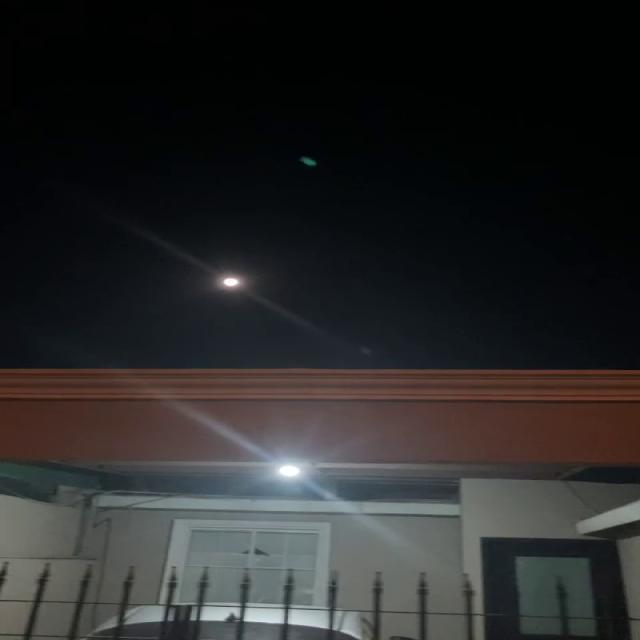moon: (214, 273, 253, 300)
